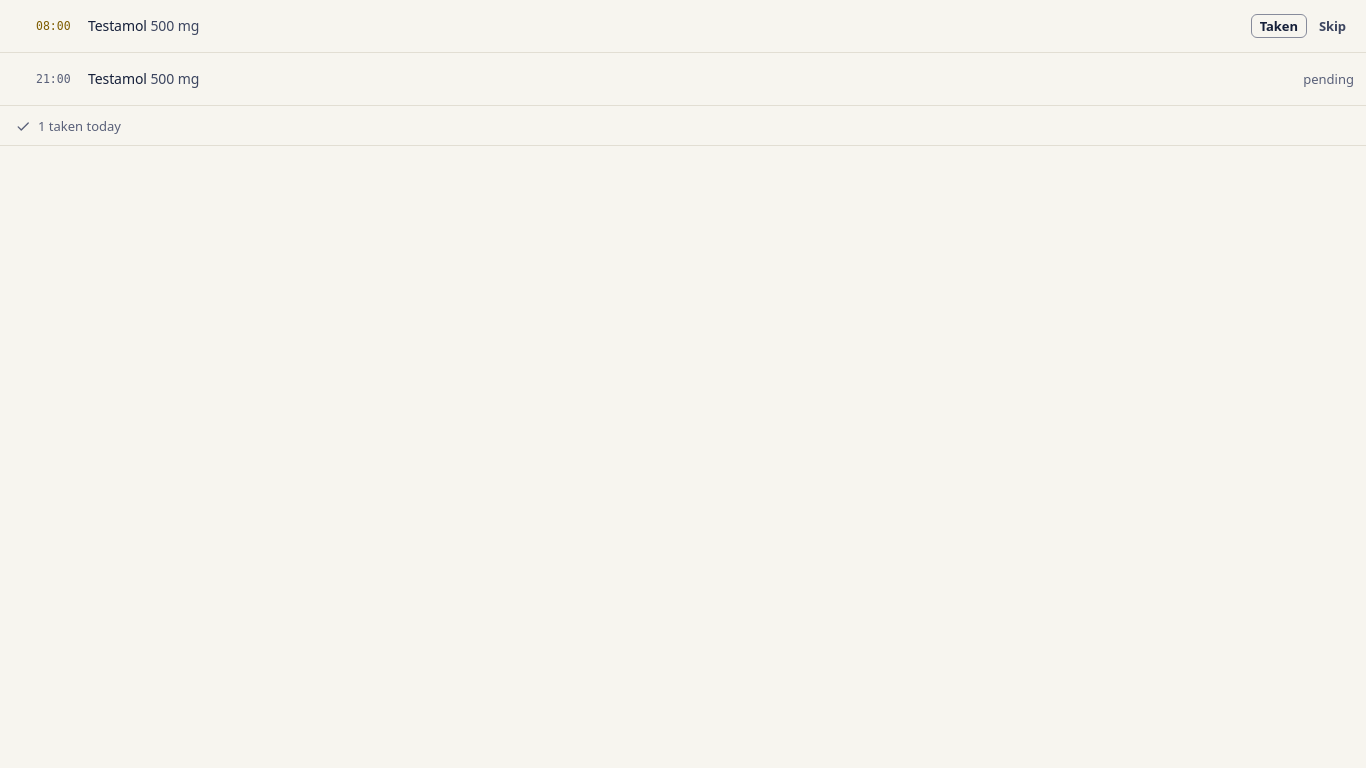
it: MedsToday › a row opens the dose sheet for today
The width and height of the screenshot is (1366, 768).
Click the button with aria-label "Testamol 500 mg at 21:00, pending" at (53, 79), box [0,53,1295,105]
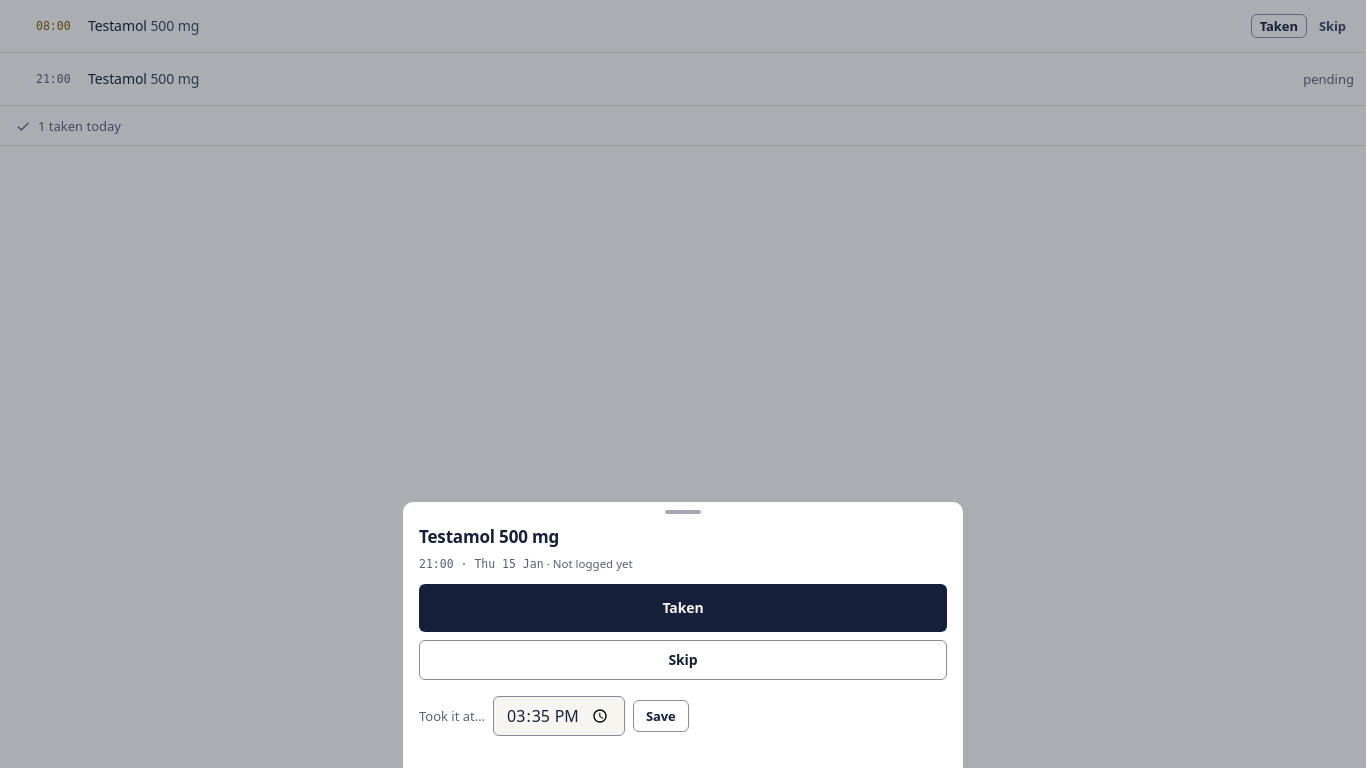
Expected: the heading "Testamol 500 mg" is shown, [419,526,559,548]
